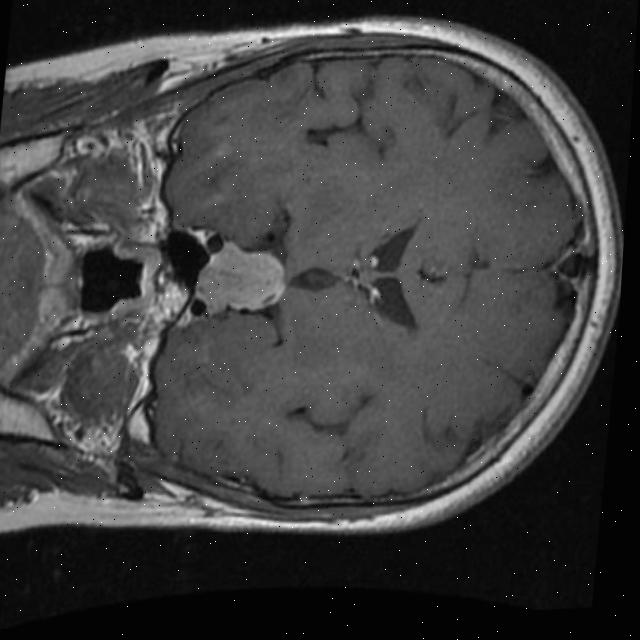Pituitary: (191, 238, 289, 318)
